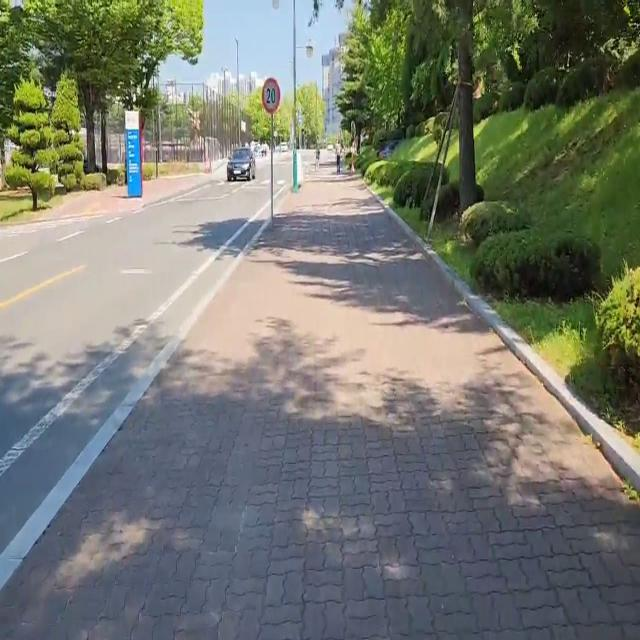car: (228, 140, 255, 184)
streetlamp: (271, 0, 315, 191)
